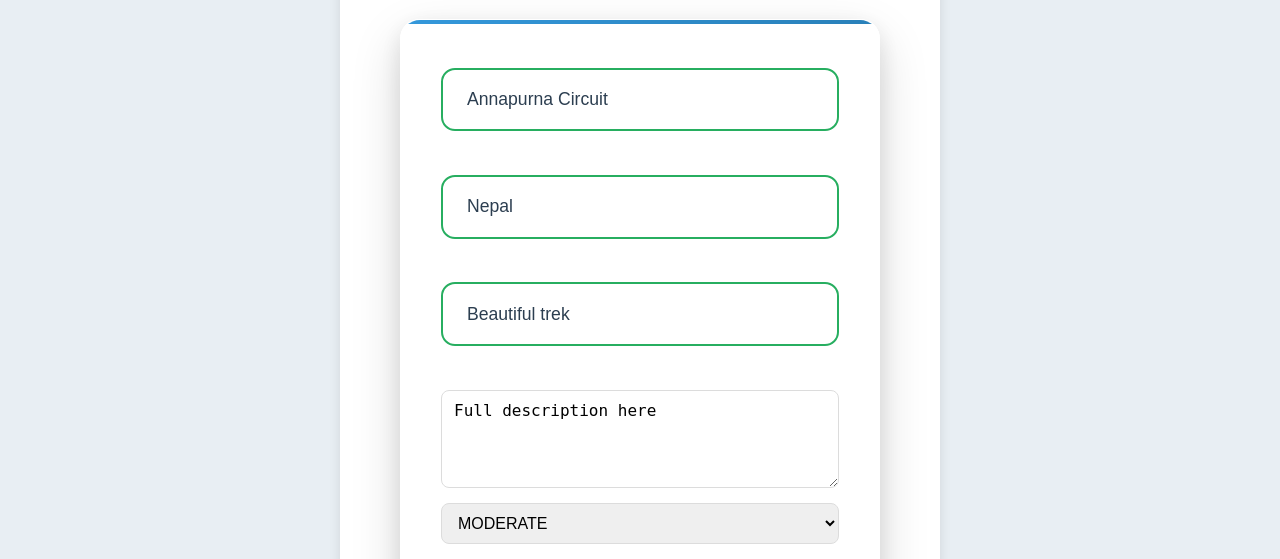
Scenario: EditTrek component › updates form fields and highlights
Replace the text in the 1st field with placeholder "Name" with "New Trek Name". click: point(640, 100)
box: [441,68,839,131]
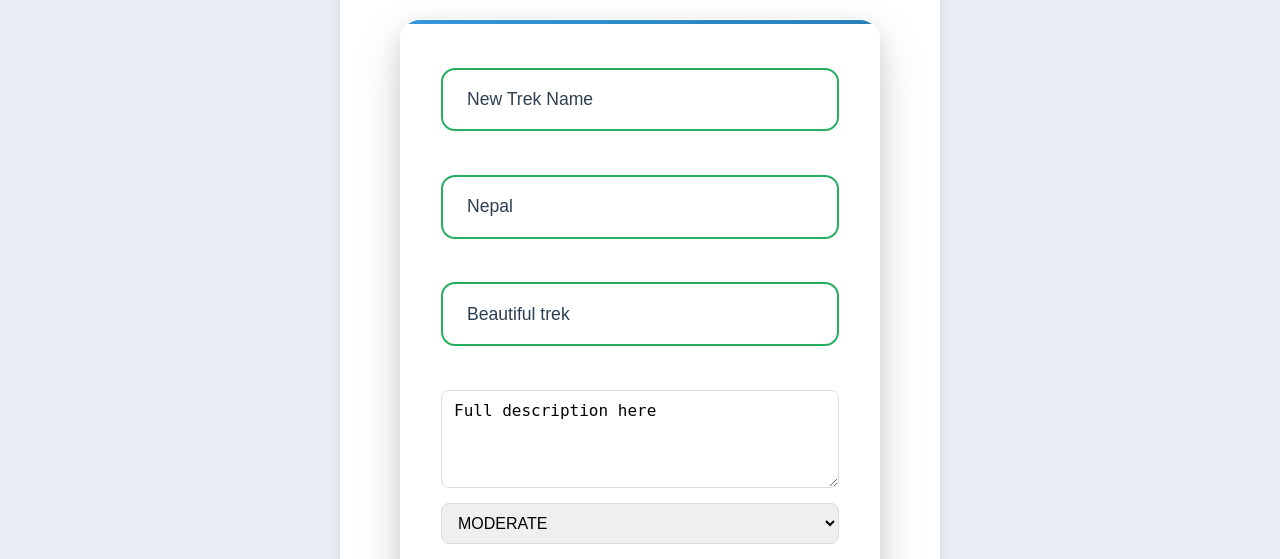
Select "HARD" in the dropdown. click: point(640, 523)
box: [441,502,839,544]
(page scrolled)
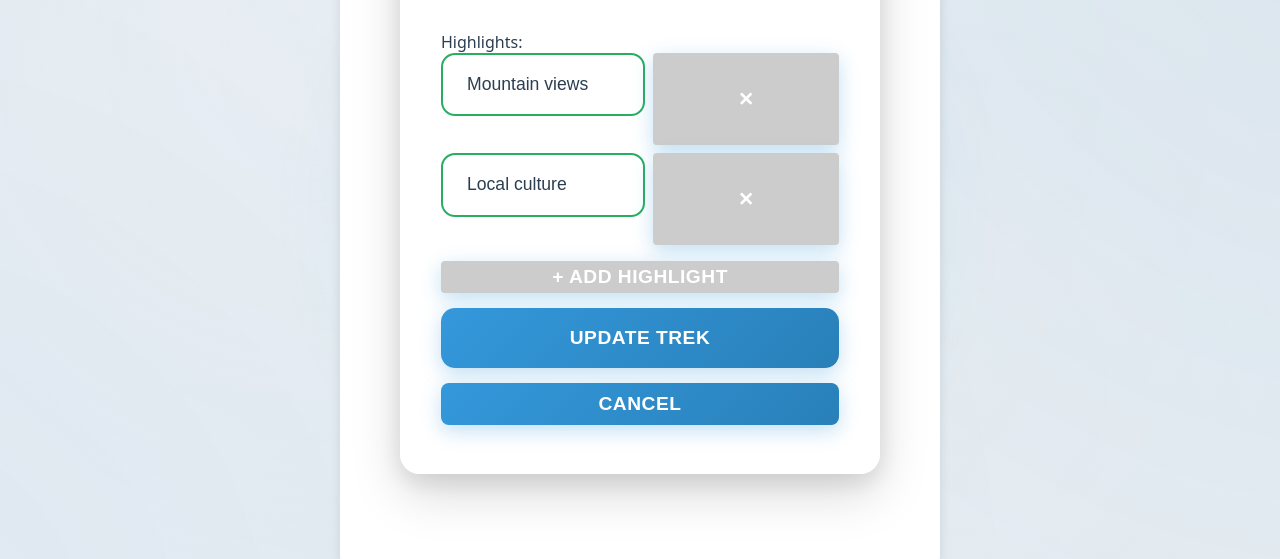
Click the button "+ Add Highlight". click: point(640, 277)
box: [441,261,839,293]
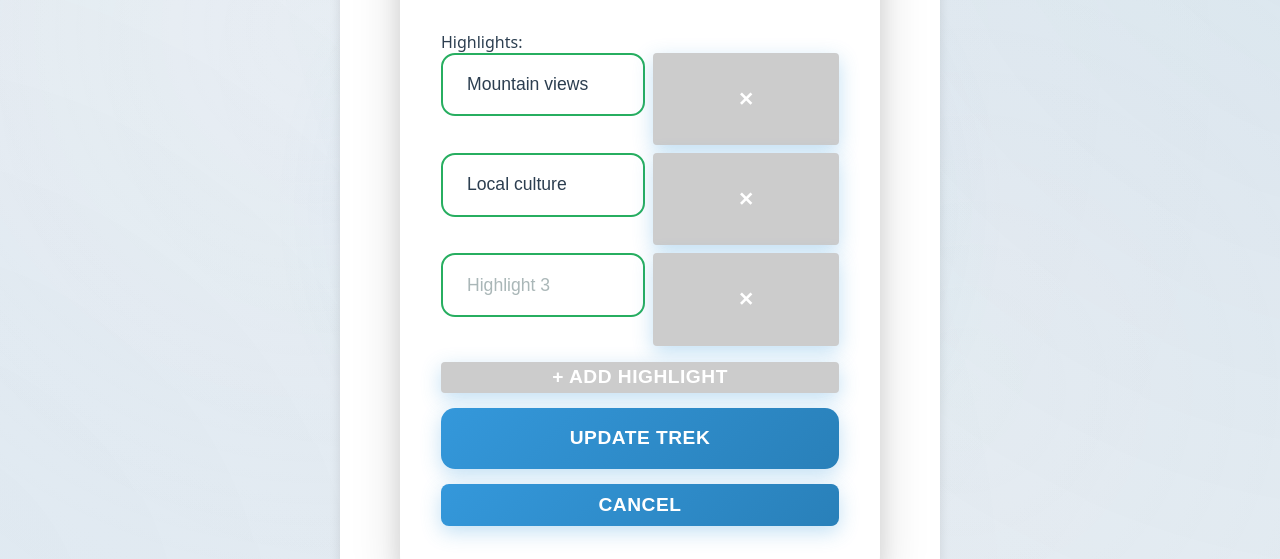
Expected: the number of fields with placeholder "Highlight 1" is 3, [441,53,645,116]; [441,153,645,217]; [441,253,645,317]
Click the 1st button "✕". click: point(746, 99)
box: [653,53,839,145]
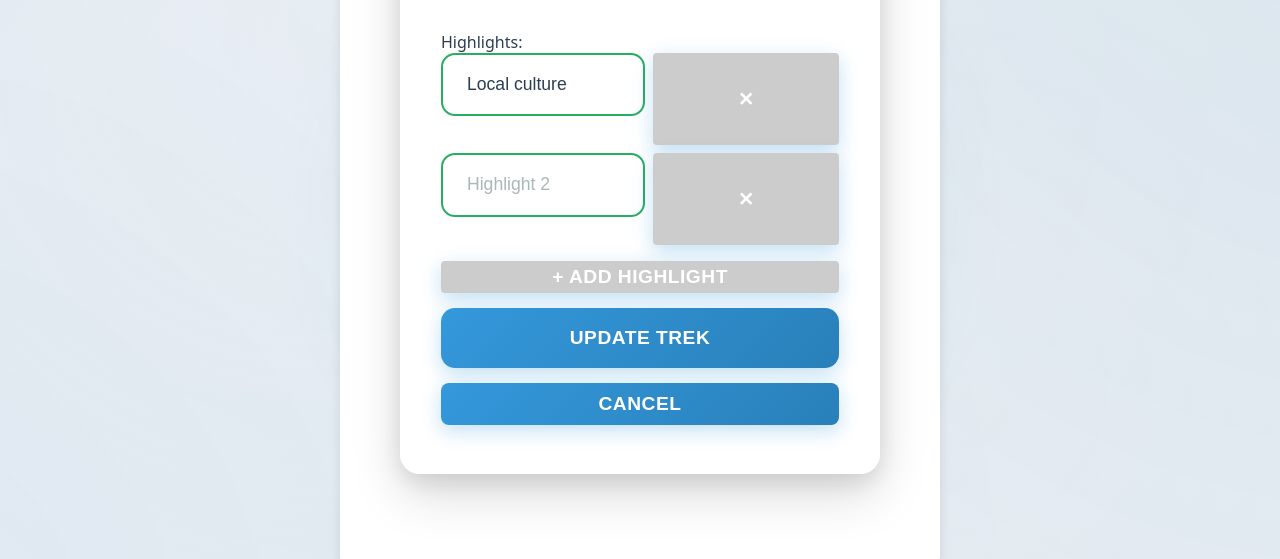
Expected: the number of fields with placeholder "Highlight 1" is 2, [441,53,645,116]; [441,153,645,217]
